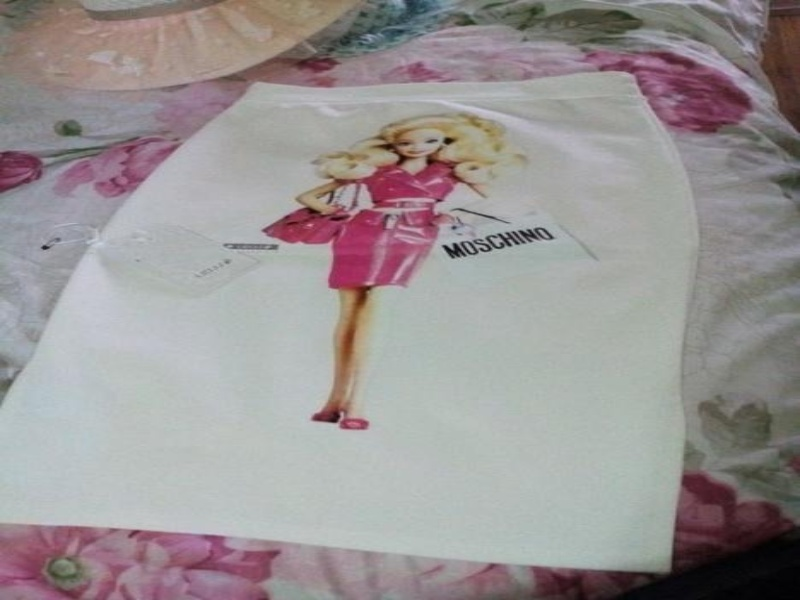skirt: (0, 71, 696, 575)
